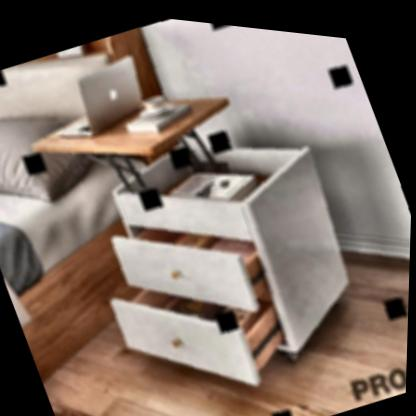Nightstand: (60, 95, 382, 416)
